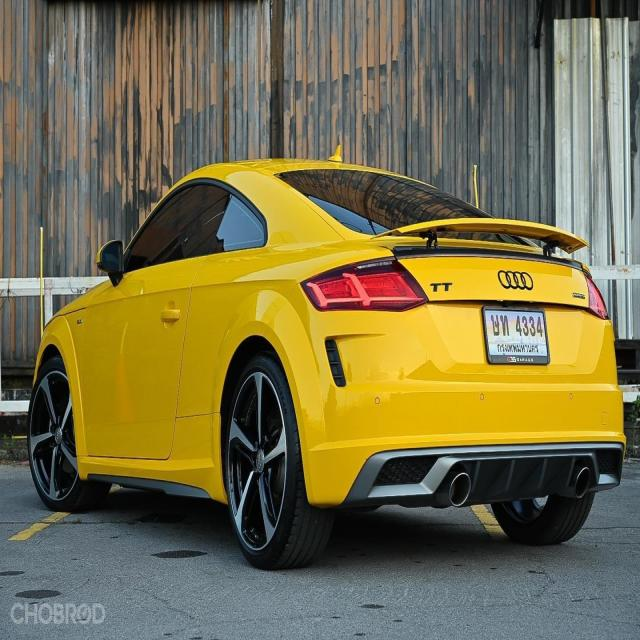license_plate: (481, 306, 552, 367)
